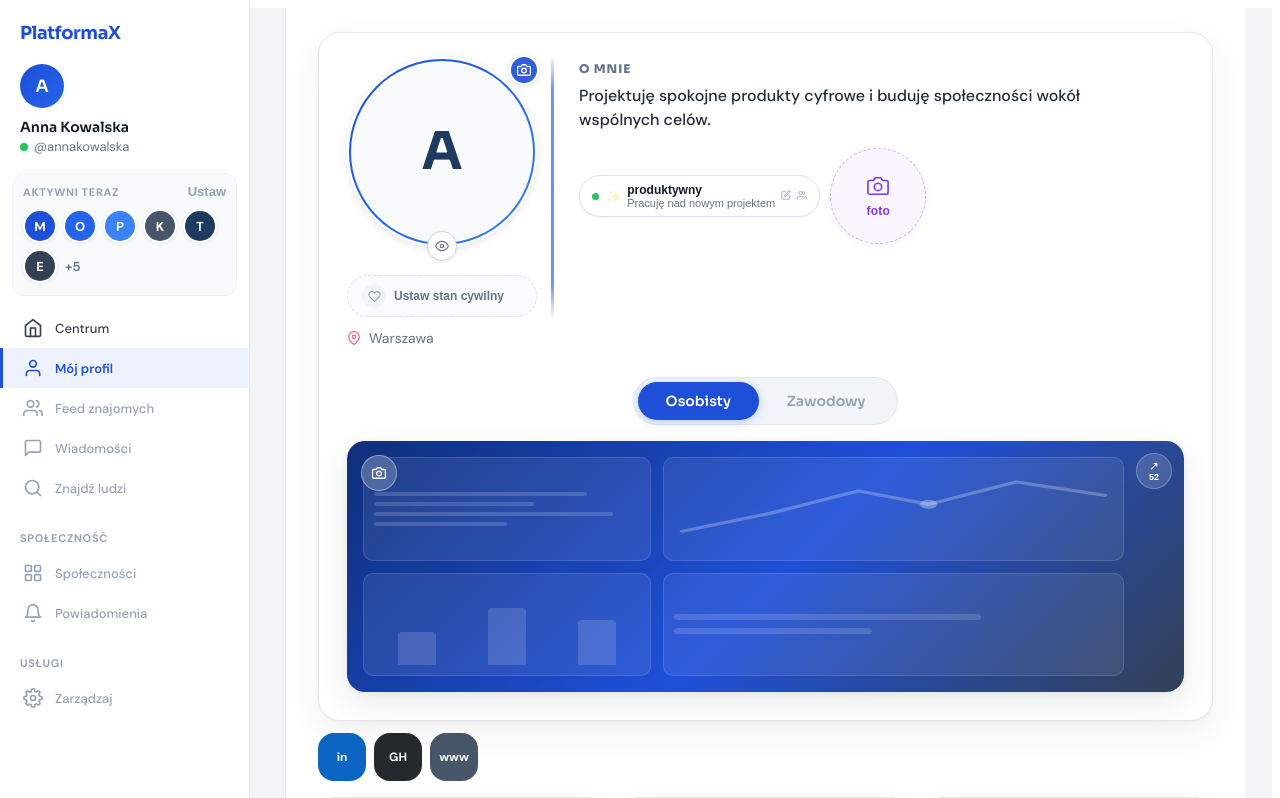
profile media upload sheet (avatar/banner) › save is an explicit disabled-policy state, never a fake success
This screenshot has width=1280, height=798.
Click the button named "zmień zdjęcie profilowe": (524, 70) x1=509 y1=55 x2=539 y2=85
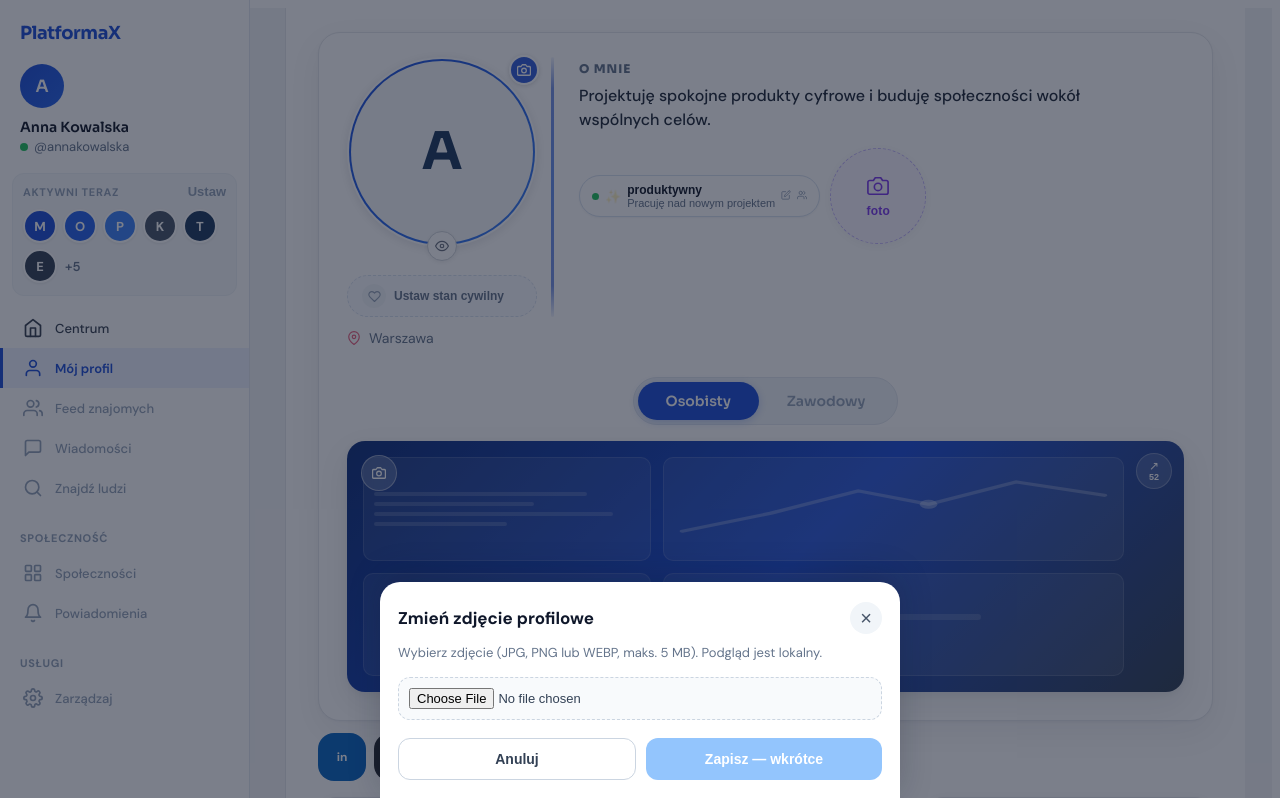
Expected: the button "Zapisz — wkrótce" is disabled, x1=646 y1=738 x2=882 y2=780
